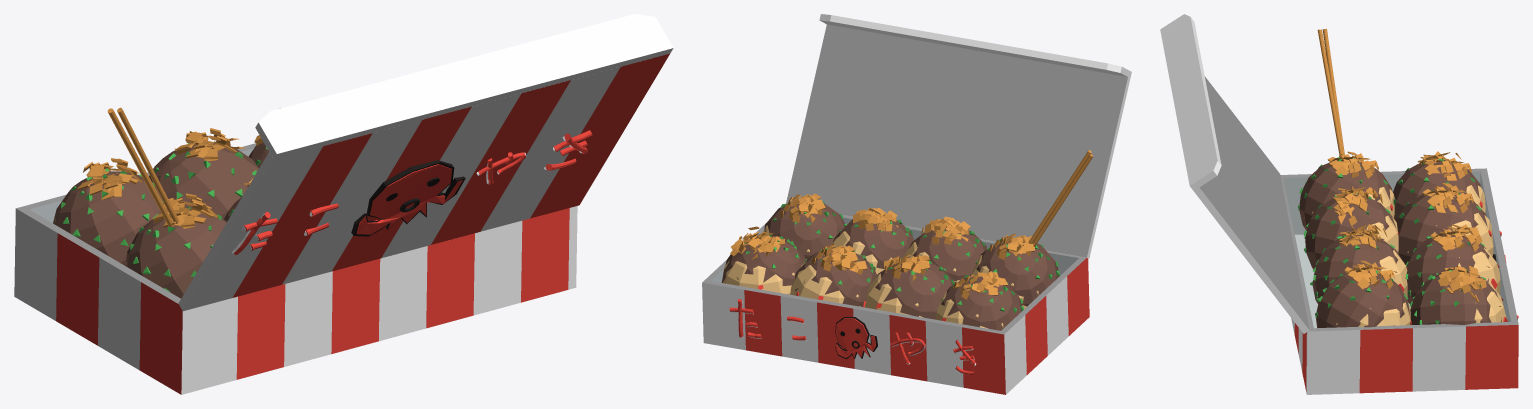
File: takoyaki.glb
The picture shows the model from 3 angles, left to right: view 1: azimuth 30°, elevation 25°; view 2: azimuth 150°, elevation 25°; view 3: azimuth 270°, elevation 25°; orthographic projection. The views are drawn at different scales.
Visible parts, largest first — view 1: group374043096; view 2: group374043096; view 3: group374043096.
Boxes of the visible parts, bbox=[...] form: group374043096: bbox=[14, 14, 673, 394]; group374043096: bbox=[702, 14, 1131, 394]; group374043096: bbox=[1160, 14, 1518, 394].
Size of the model in its own units: 1.17 by 0.7833 by 1.05.
Materials: 1 (1 with a texture image).
